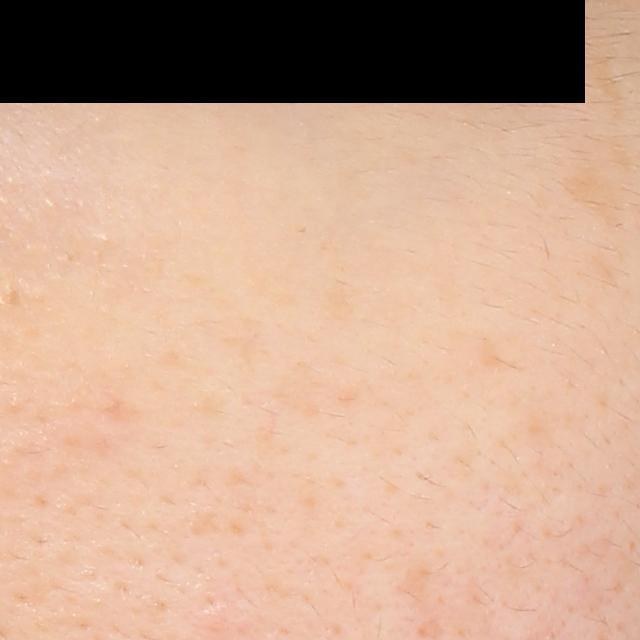melasma: (556, 160, 628, 230), (577, 41, 629, 125)
